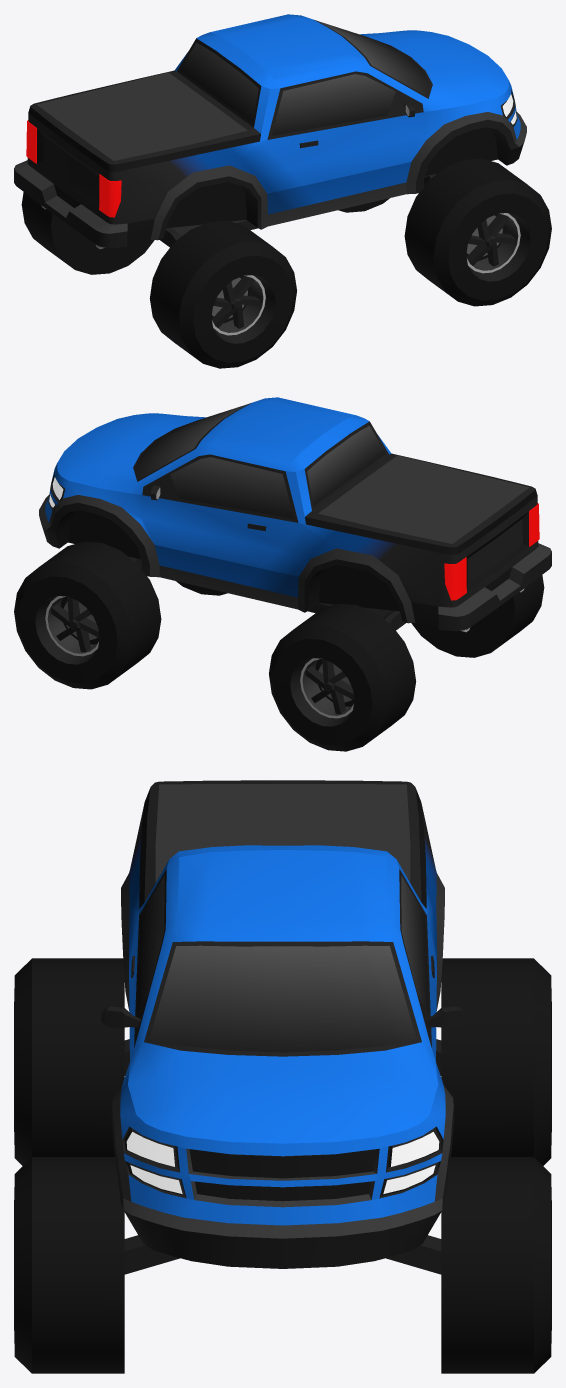
File: Car_004.glb
The picture shows the model from 3 angles, top to bottom: view 1: azimuth 30°, elevation 25°; view 2: azimuth 150°, elevation 25°; view 3: azimuth 270°, elevation 25°; orthographic projection. The views are drawn at different scales.
Parts seen in each view (by area): view 1: Car_004, wheel_3_Car_004_Wheel_2R, wheel_1_Car_004_Wheel_1R, wheel_2_Car_004_Wheel_2L; view 2: Car_004, wheel_2_Car_004_Wheel_2L, wheel_0_Car_004_Wheel_1L, wheel_3_Car_004_Wheel_2R; view 3: Car_004, wheel_0_Car_004_Wheel_1L, wheel_1_Car_004_Wheel_1R, wheel_2_Car_004_Wheel_2L, wheel_3_Car_004_Wheel_2R.
Boxes of the visible parts, x1=… form: Car_004: x1=14, y1=14, x2=526, y2=249; wheel_3_Car_004_Wheel_2R: x1=149, y1=220, x2=296, y2=368; wheel_1_Car_004_Wheel_1R: x1=404, y1=158, x2=551, y2=306; wheel_2_Car_004_Wheel_2L: x1=21, y1=192, x2=154, y2=274; Car_004: x1=39, y1=397, x2=551, y2=632; wheel_2_Car_004_Wheel_2L: x1=269, y1=603, x2=416, y2=751; wheel_0_Car_004_Wheel_1L: x1=14, y1=541, x2=161, y2=689; wheel_3_Car_004_Wheel_2R: x1=411, y1=575, x2=544, y2=657; Car_004: x1=101, y1=780, x2=464, y2=1274; wheel_0_Car_004_Wheel_1L: x1=441, y1=1157, x2=551, y2=1373; wheel_1_Car_004_Wheel_1R: x1=14, y1=1157, x2=124, y2=1373; wheel_2_Car_004_Wheel_2L: x1=441, y1=958, x2=551, y2=1165; wheel_3_Car_004_Wheel_2R: x1=14, y1=958, x2=124, y2=1165.
Bounding box in the file's own units: 5.06 × 2.56 × 3.28.
Materials: 2 (2 with a texture image).
